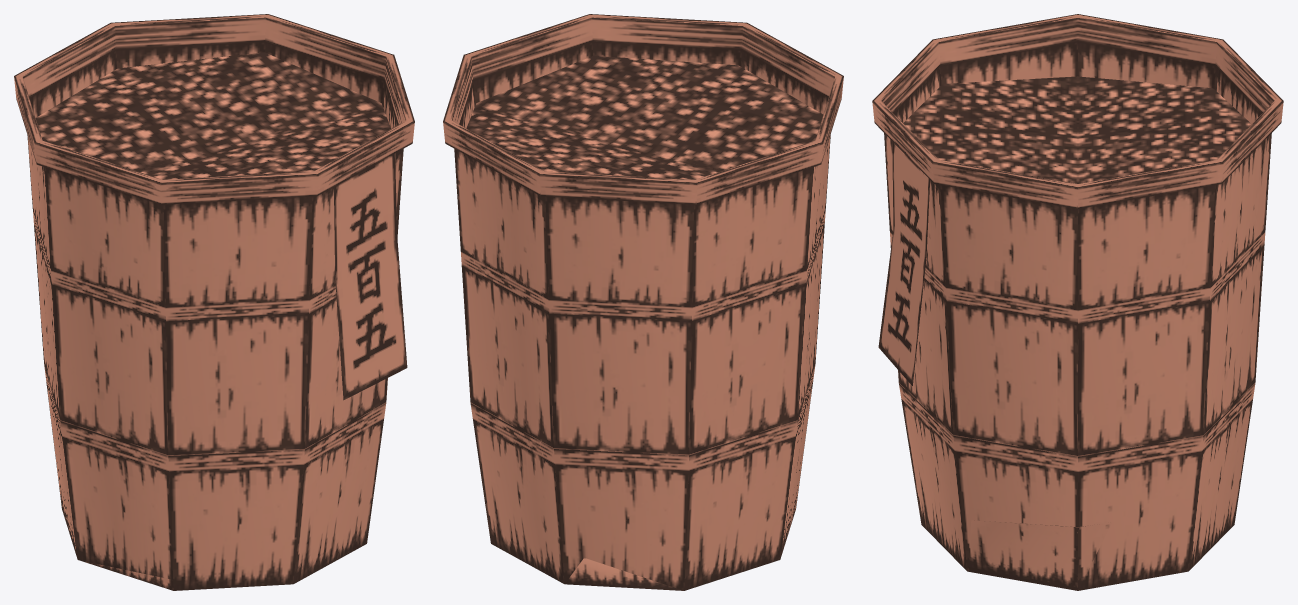
The model's file is bl0013-color.glb.
3 views of the same model, side by side, from view 1: azimuth 30°, elevation 25°; view 2: azimuth 150°, elevation 25°; view 3: azimuth 270°, elevation 25° (orthographic).
Visible parts, largest first — view 1: bl0013_OO_D0_HP0001_M00, D1_M00; view 2: bl0013_OO_D0_HP0001_M00, D1_M00; view 3: bl0013_OO_D0_HP0001_M00, D1_M00.
Boxes of the visible parts, x1,y1,x2,y2 form: bl0013_OO_D0_HP0001_M00: (14, 14, 414, 590); D1_M00: (78, 560, 173, 590); bl0013_OO_D0_HP0001_M00: (443, 14, 843, 590); D1_M00: (565, 499, 797, 590); bl0013_OO_D0_HP0001_M00: (872, 14, 1283, 590); D1_M00: (967, 520, 1111, 590).
Size of the model in its own units: 0.9514 by 1.08 by 0.9514.
Materials: 1 (1 with a texture image).
